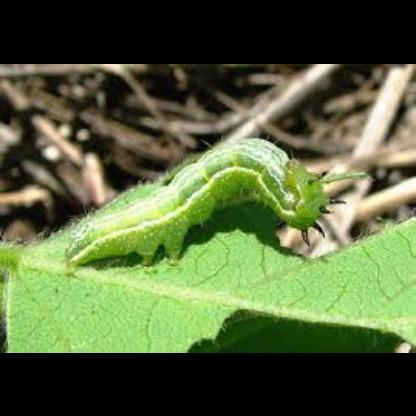oruga: (40, 144, 372, 254)
